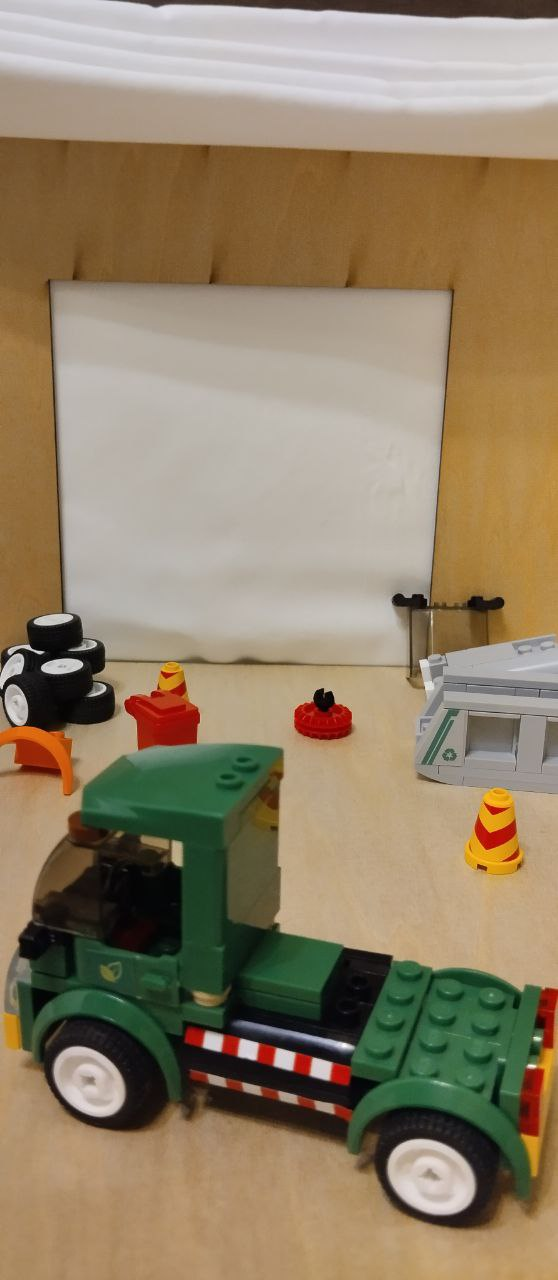Cone: (117, 690, 219, 768), (456, 793, 531, 881), (153, 661, 191, 692)
Truck: (0, 740, 557, 1231)
